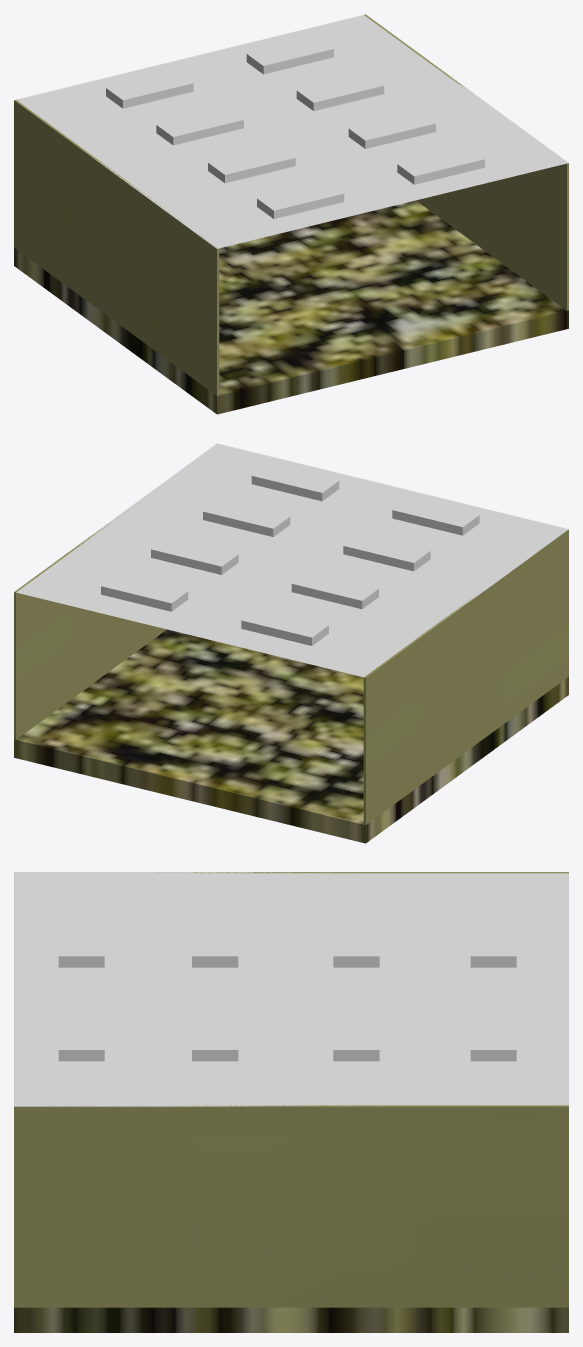
Rendered from BackroomsLevelZero - 3.fbx.
3 views of the same model, one above another, from view 1: azimuth 30°, elevation 25°; view 2: azimuth 150°, elevation 25°; view 3: azimuth 270°, elevation 25° (orthographic). The views are drawn at different scales.
Parts seen in each view (by area): view 1: Floor.028, Floor.008, Wall.021, Wall.020, Cube.143, Cube.140, Cube.139, Cube.141, Cube.146, Cube.142, Cube.144, Cube.145; view 2: Floor.028, Floor.008, Wall.021, Wall.020, Cube.146, Cube.141, Cube.140, Cube.145, Cube.142, Cube.139, Cube.144, Cube.143; view 3: Wall.020, Floor.028, Floor.008, Cube.139, Cube.140, Cube.141, Cube.143, Cube.145, Cube.142, Cube.144, Cube.146, Wall.021.
Part boxes in pixels (bbox=[...]): Floor.028: bbox=[16, 15, 568, 248]; Floor.008: bbox=[14, 200, 568, 414]; Wall.021: bbox=[14, 100, 219, 395]; Wall.020: bbox=[364, 14, 568, 310]; Cube.143: bbox=[296, 73, 384, 110]; Cube.140: bbox=[156, 107, 243, 145]; Cube.139: bbox=[106, 71, 193, 108]; Cube.141: bbox=[208, 145, 295, 183]; Cube.146: bbox=[397, 147, 484, 184]; Cube.142: bbox=[246, 36, 333, 74]; Cube.144: bbox=[348, 111, 435, 148]; Cube.145: bbox=[257, 181, 344, 218]; Floor.028: bbox=[16, 443, 568, 677]; Floor.008: bbox=[14, 629, 568, 843]; Wall.021: bbox=[363, 529, 568, 824]; Wall.020: bbox=[14, 503, 166, 739]; Cube.146: bbox=[251, 463, 339, 501]; Cube.141: bbox=[343, 533, 430, 571]; Cube.140: bbox=[291, 571, 378, 609]; Cube.145: bbox=[392, 497, 479, 535]; Cube.142: bbox=[101, 574, 188, 611]; Cube.139: bbox=[241, 608, 328, 645]; Cube.144: bbox=[203, 499, 290, 536]; Cube.143: bbox=[151, 537, 238, 574]; Wall.020: bbox=[14, 1105, 568, 1307]; Floor.028: bbox=[14, 872, 568, 1106]; Floor.008: bbox=[14, 1307, 568, 1332]; Cube.139: bbox=[470, 909, 516, 967]; Cube.140: bbox=[333, 909, 379, 967]; Cube.141: bbox=[192, 909, 238, 967]; Cube.143: bbox=[333, 1003, 379, 1061]; Cube.145: bbox=[58, 909, 104, 967]; Cube.142: bbox=[470, 1003, 516, 1061]; Cube.144: bbox=[192, 1003, 238, 1061]; Cube.146: bbox=[58, 1003, 104, 1061]; Wall.021: bbox=[129, 872, 568, 873].
Size of the model in its own units: 2000 by 946 by 2000.
